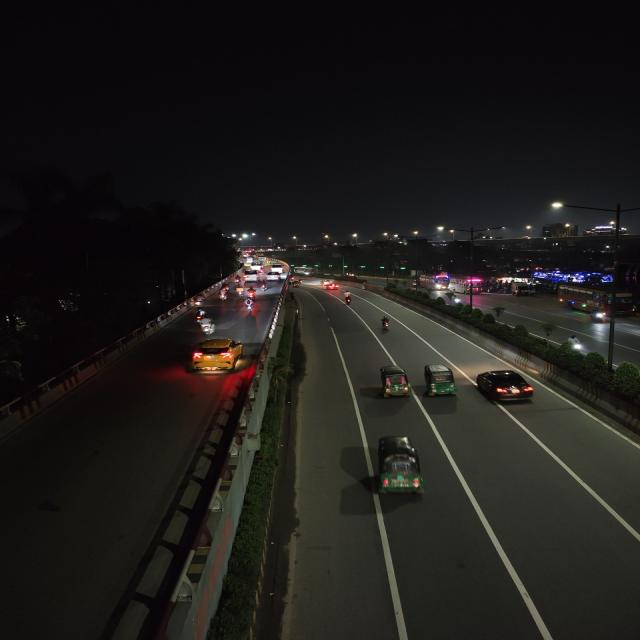bus: (550, 276, 640, 324), (448, 275, 484, 295), (418, 272, 451, 292)
car: (178, 336, 249, 380), (476, 366, 534, 406), (243, 270, 260, 284), (270, 262, 287, 274), (266, 272, 282, 280), (326, 282, 340, 290), (319, 279, 333, 286)
cng: (370, 433, 431, 502), (420, 361, 458, 401), (375, 360, 411, 400), (292, 281, 301, 288)
motorcycle: (563, 334, 587, 356), (201, 316, 218, 337), (584, 308, 606, 324), (243, 297, 256, 313), (379, 315, 392, 331), (193, 293, 205, 308), (194, 308, 206, 322), (340, 295, 355, 306), (247, 285, 257, 300), (218, 288, 230, 300), (235, 284, 245, 298), (260, 280, 269, 292), (233, 274, 242, 284)
truck: (509, 280, 532, 297)
